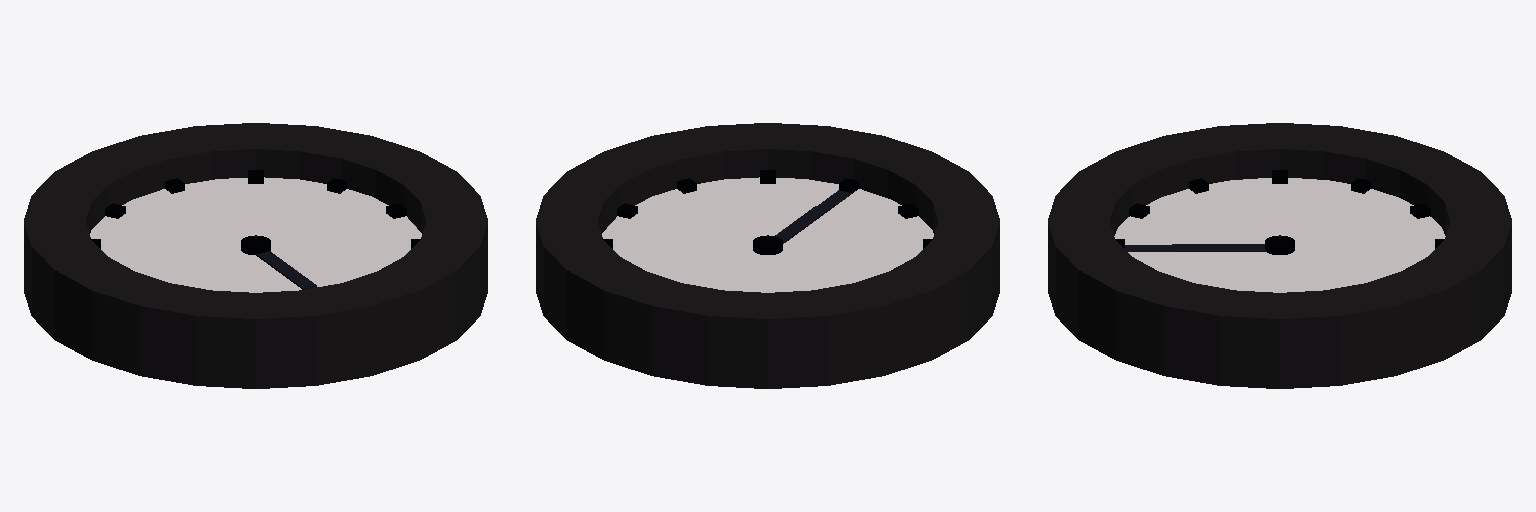
File: Clock.obj
The picture shows the model from 3 angles: view 1: azimuth 30°, elevation 25°; view 2: azimuth 150°, elevation 25°; view 3: azimuth 270°, elevation 25°; orthographic projection.
Parts seen in each view (by area): view 1: Union2, Part1, Union1, Part3; view 2: Union2, Part1, Union1, Part3; view 3: Union2, Part1, Union1, Part3.
Boxes of the visible parts, x1=… form: Union2: x1=24, y1=123, x2=487, y2=388; Part1: x1=90, y1=177, x2=421, y2=292; Union1: x1=91, y1=170, x2=420, y2=254; Part3: x1=256, y1=251, x2=316, y2=289; Union2: x1=536, y1=123, x2=999, y2=388; Part1: x1=602, y1=177, x2=933, y2=292; Union1: x1=603, y1=170, x2=932, y2=254; Part3: x1=775, y1=206, x2=828, y2=243; Union2: x1=1048, y1=123, x2=1511, y2=388; Part1: x1=1114, y1=178, x2=1445, y2=292; Union1: x1=1115, y1=170, x2=1444, y2=254; Part3: x1=1172, y1=244, x2=1266, y2=251.
Bounding box in the file's own units: 3 × 0.5 × 3.